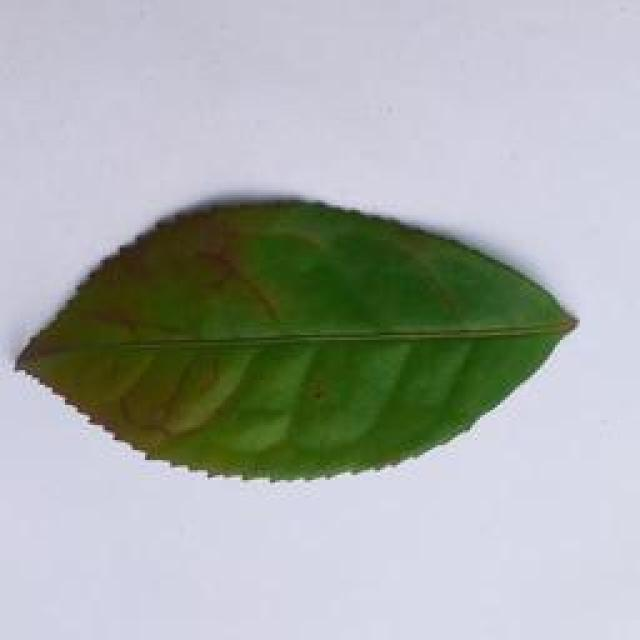Red Leaf Spot: (0, 190, 600, 495)
